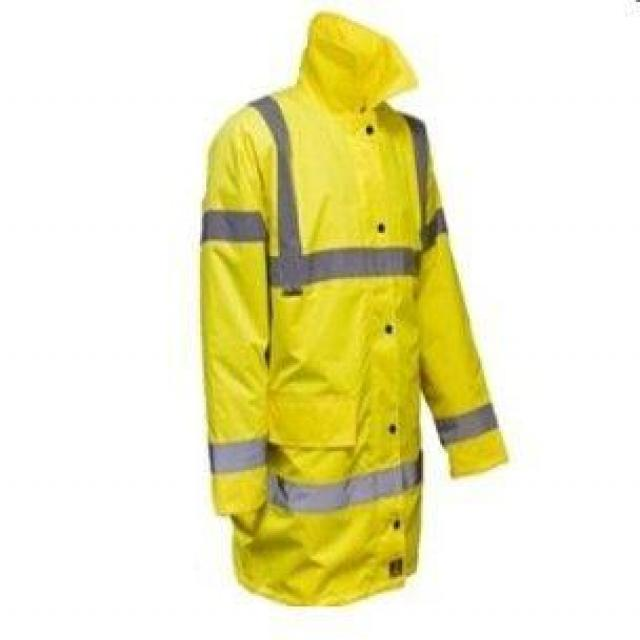Reflective-Jacket: (69, 36, 537, 627)
